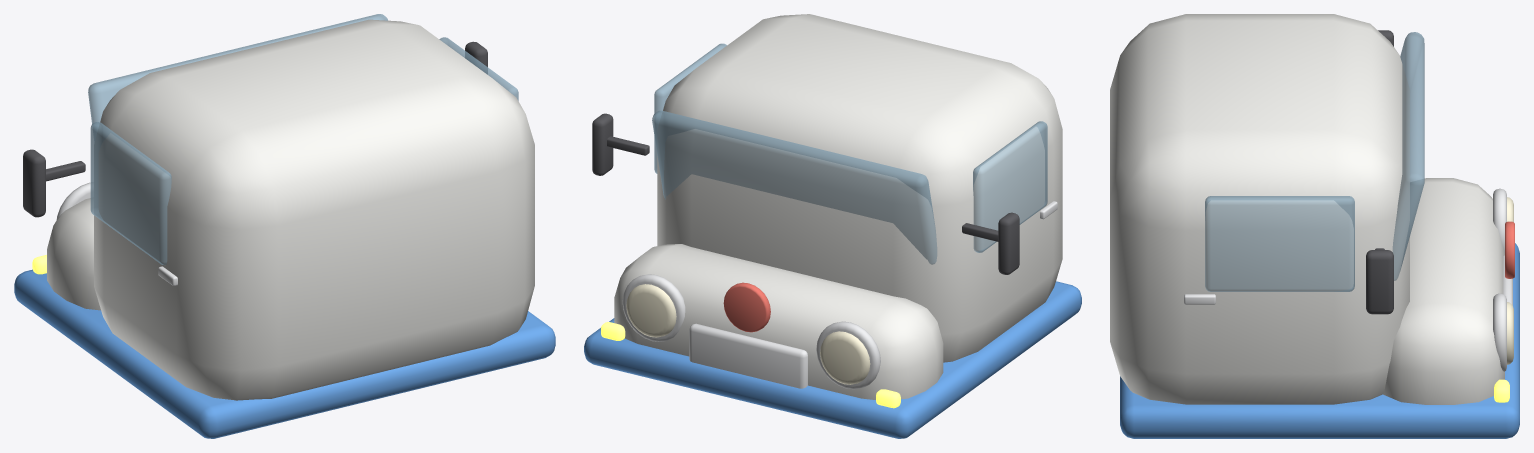
The model's file is Kabina_Dostawcza.fbx.
The picture shows the model from 3 angles, left to right: view 1: azimuth 30°, elevation 25°; view 2: azimuth 150°, elevation 25°; view 3: azimuth 270°, elevation 25°; orthographic projection. The views are drawn at different scales.
Visible parts, largest first — view 1: Kabina_Dostawcza; view 2: Kabina_Dostawcza; view 3: Kabina_Dostawcza.
Part boxes in pixels (box(x1,y1,x2,y2)): Kabina_Dostawcza: box(14, 14, 555, 438); Kabina_Dostawcza: box(584, 14, 1081, 438); Kabina_Dostawcza: box(1110, 14, 1519, 438).
Size of the model in its own units: 2.68 by 1.62 by 2.05.
